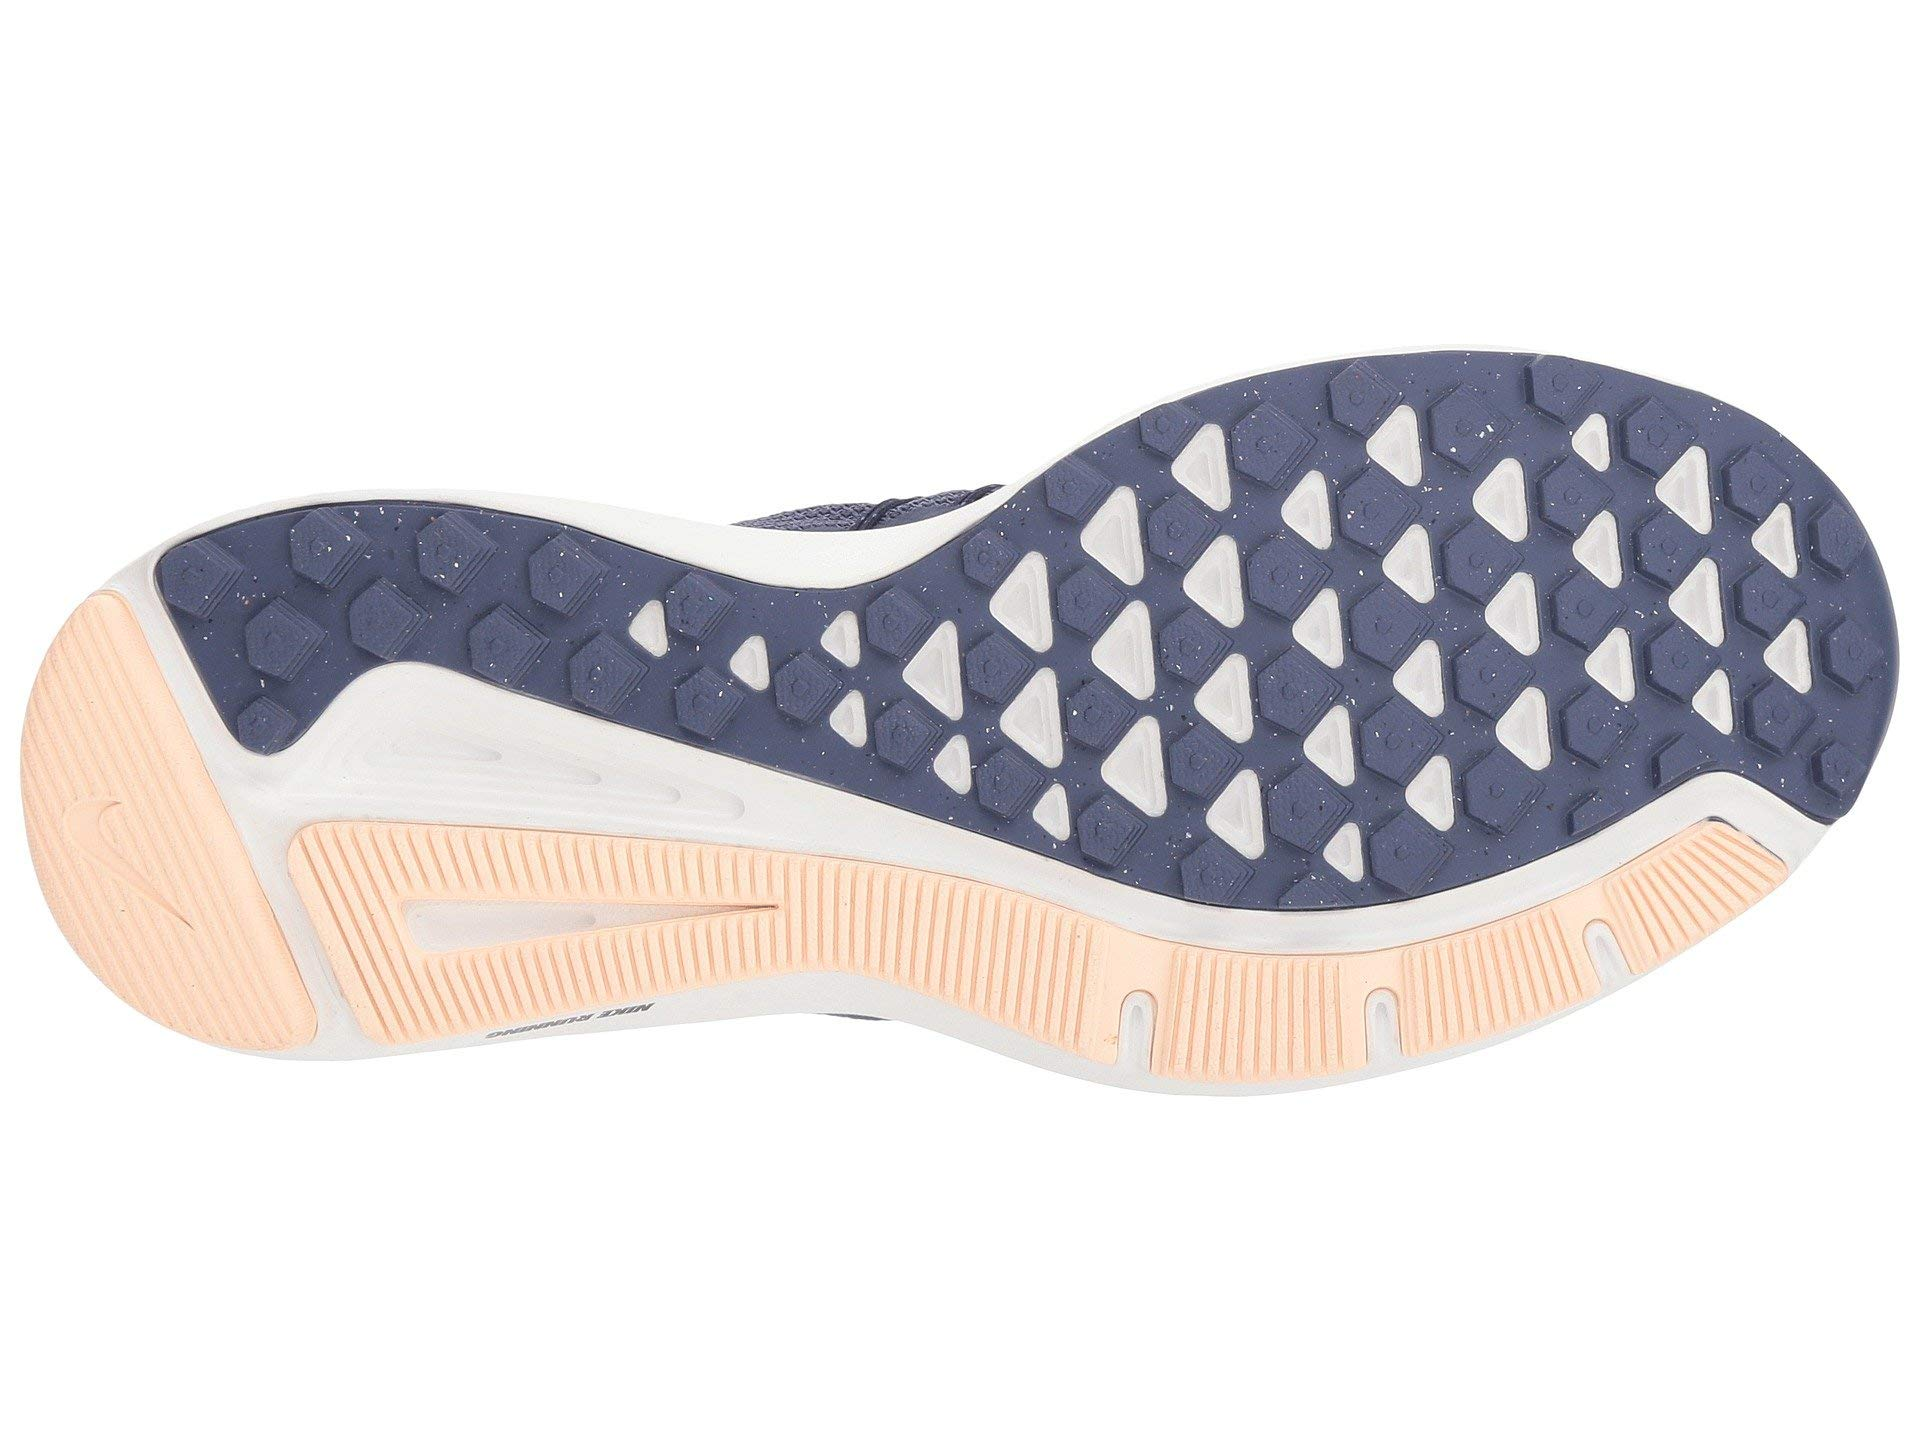polygon: (1092, 430, 1599, 861)
triangle: (1092, 430, 1599, 861)
